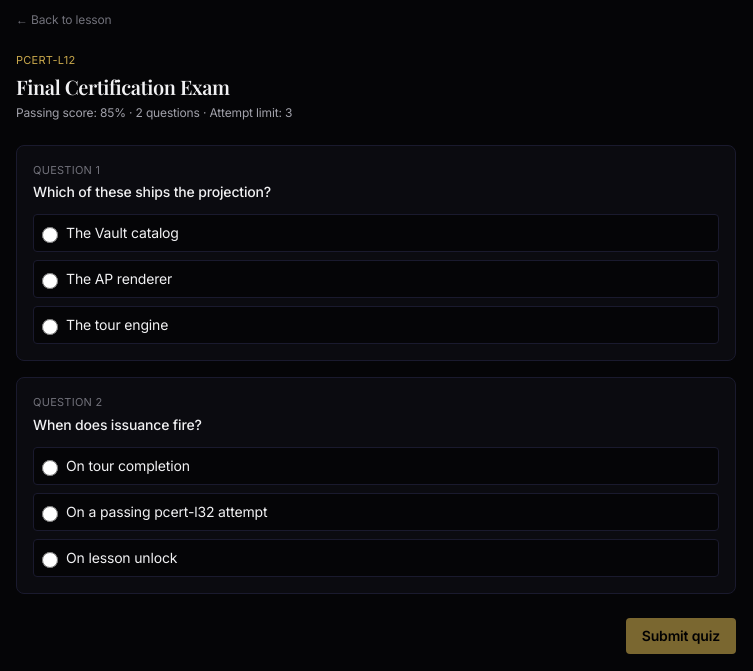
Test: QuizPageClient — result envelope › renders the passed score card on 'graded' + passed:true
Step 1. Click the radio button labelled "The Vault catalog" → (50, 235), box [42, 227, 58, 243]
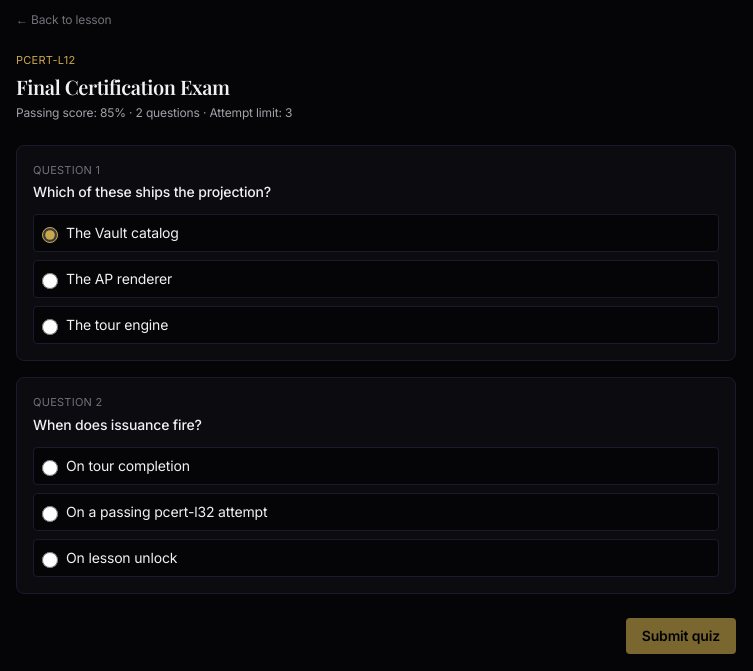
Step 2. Click the radio button labelled "On a passing pcert-l32 attempt" → (50, 514), box [42, 506, 58, 522]
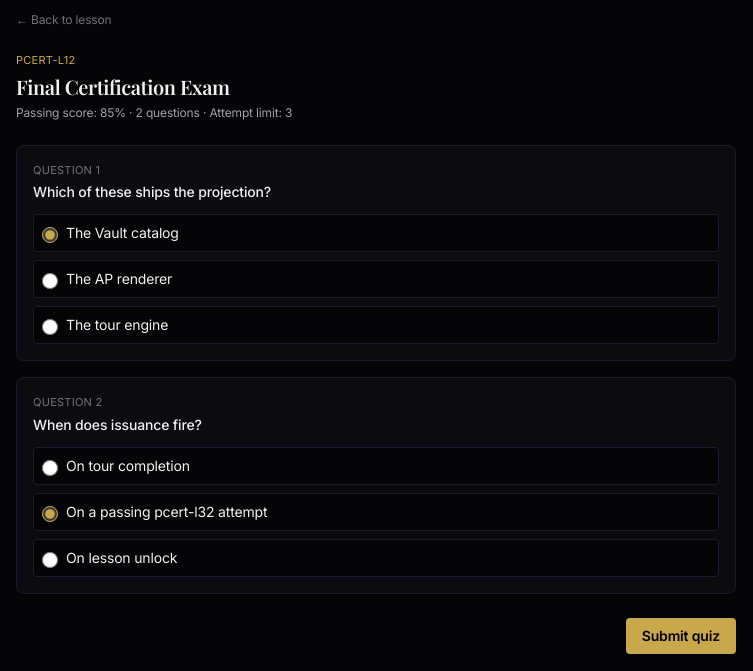
Step 3. Click the button "Submit quiz" → (681, 636), box [626, 618, 736, 654]
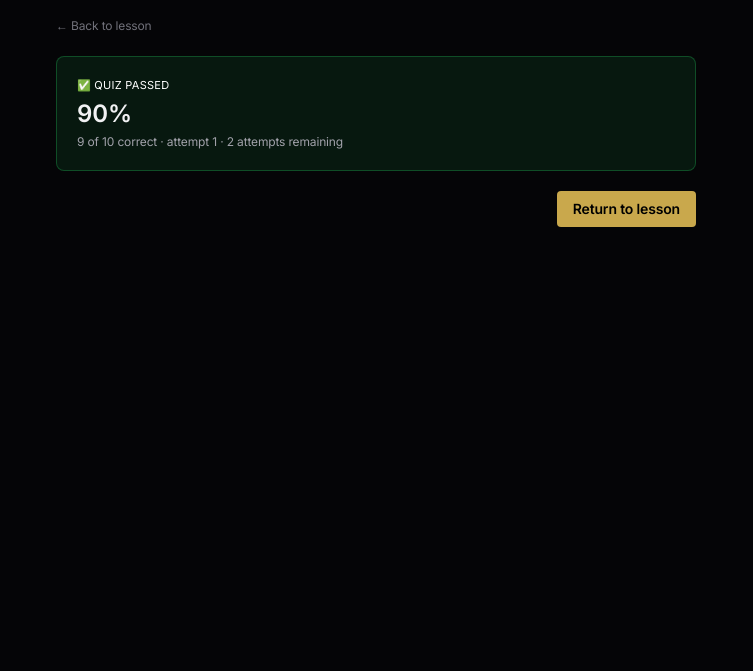
Expected: the element that starts with "✅ Quiz passed" is shown, [56, 56, 696, 170]
Expected: the text "90%" is shown, [77, 98, 132, 128]
